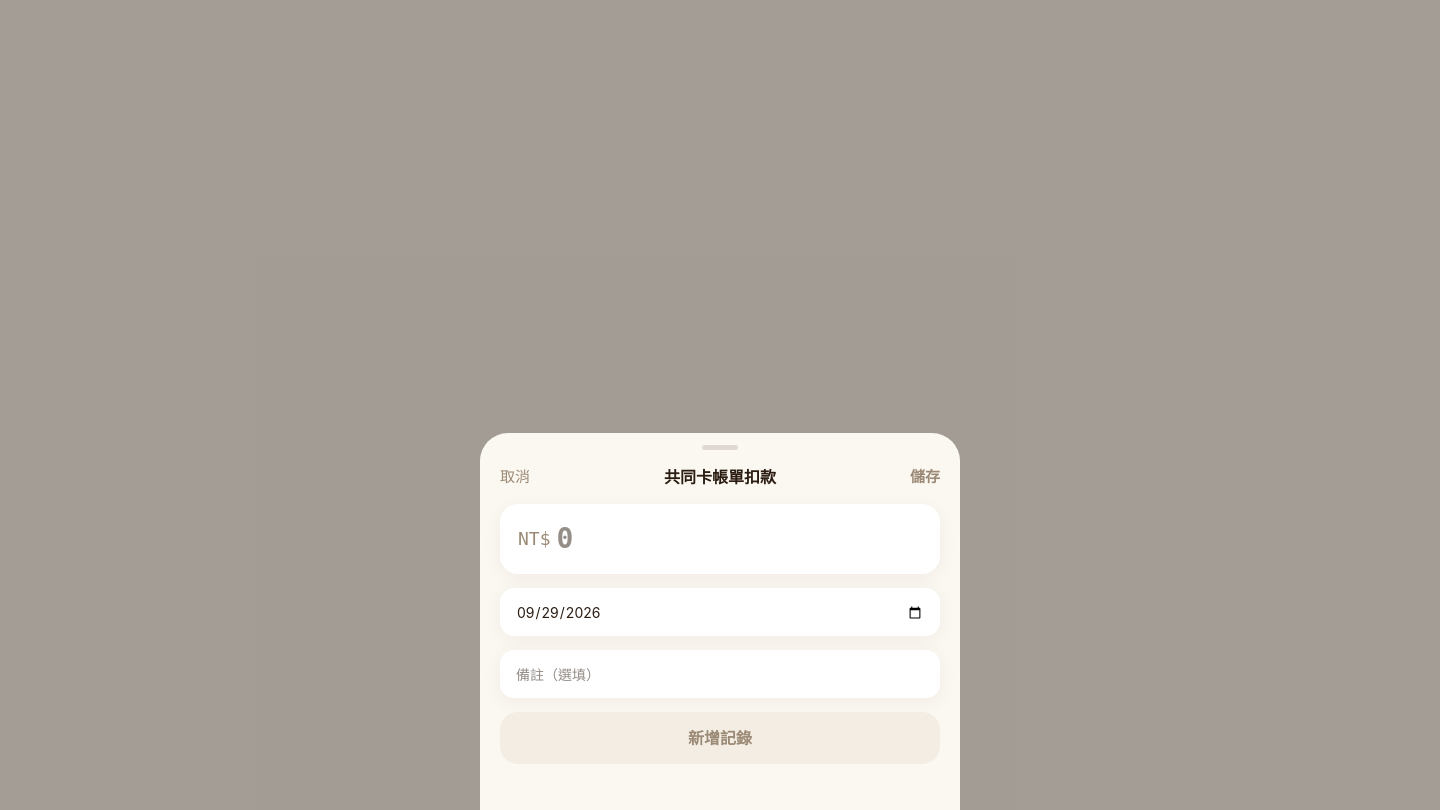
it: CashMovementFormModal › 共同卡帳單扣款 › 輸入金額與累計未出帳不符時顯示差額提示
Type "23450" into the number field with placeholder "0" at coordinates (739, 539), box [556, 518, 922, 560]
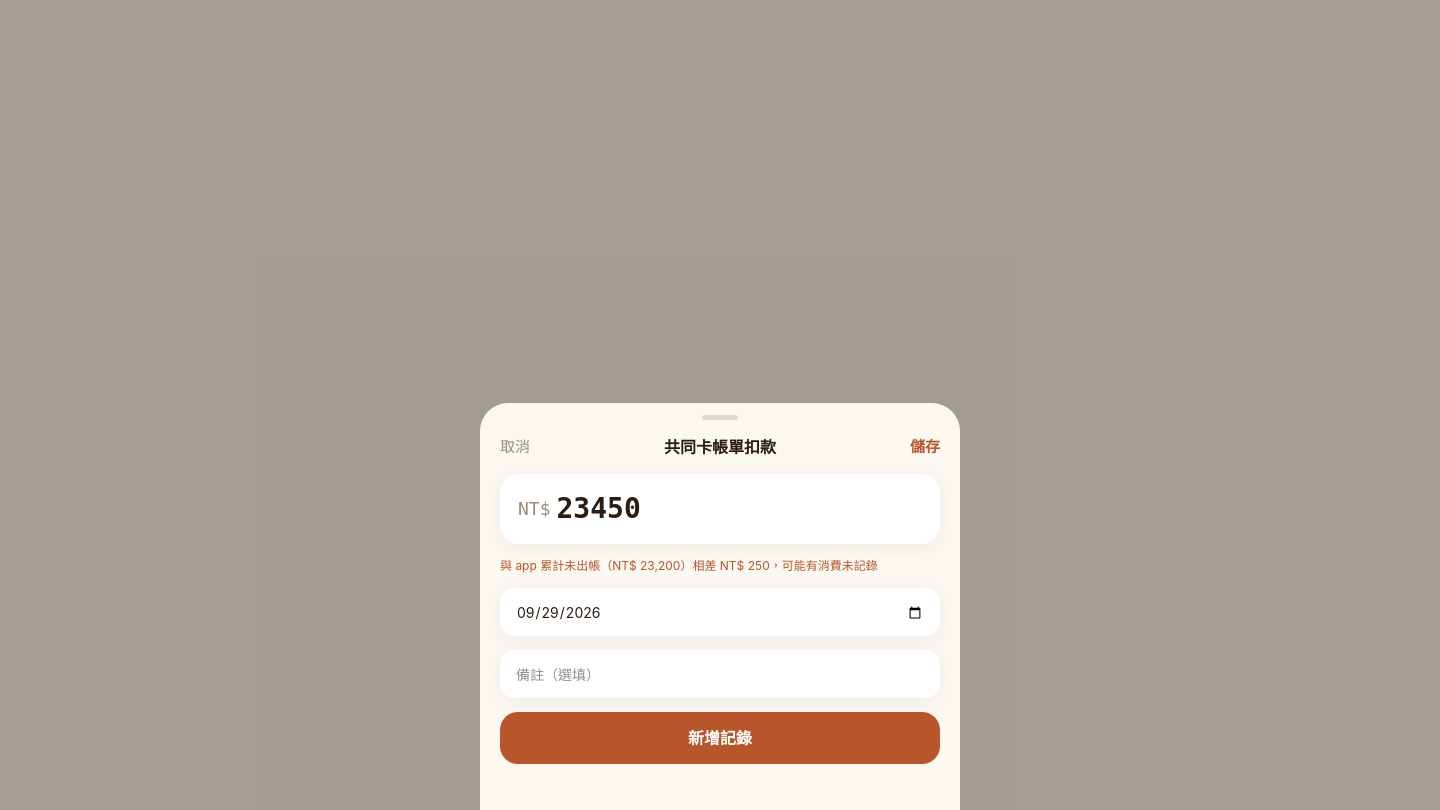
Check: the text "與 app 累計未出帳（NT$ 23,200）相差 NT$ 250，可能有消費未記錄" is shown, box [500, 558, 940, 574]
